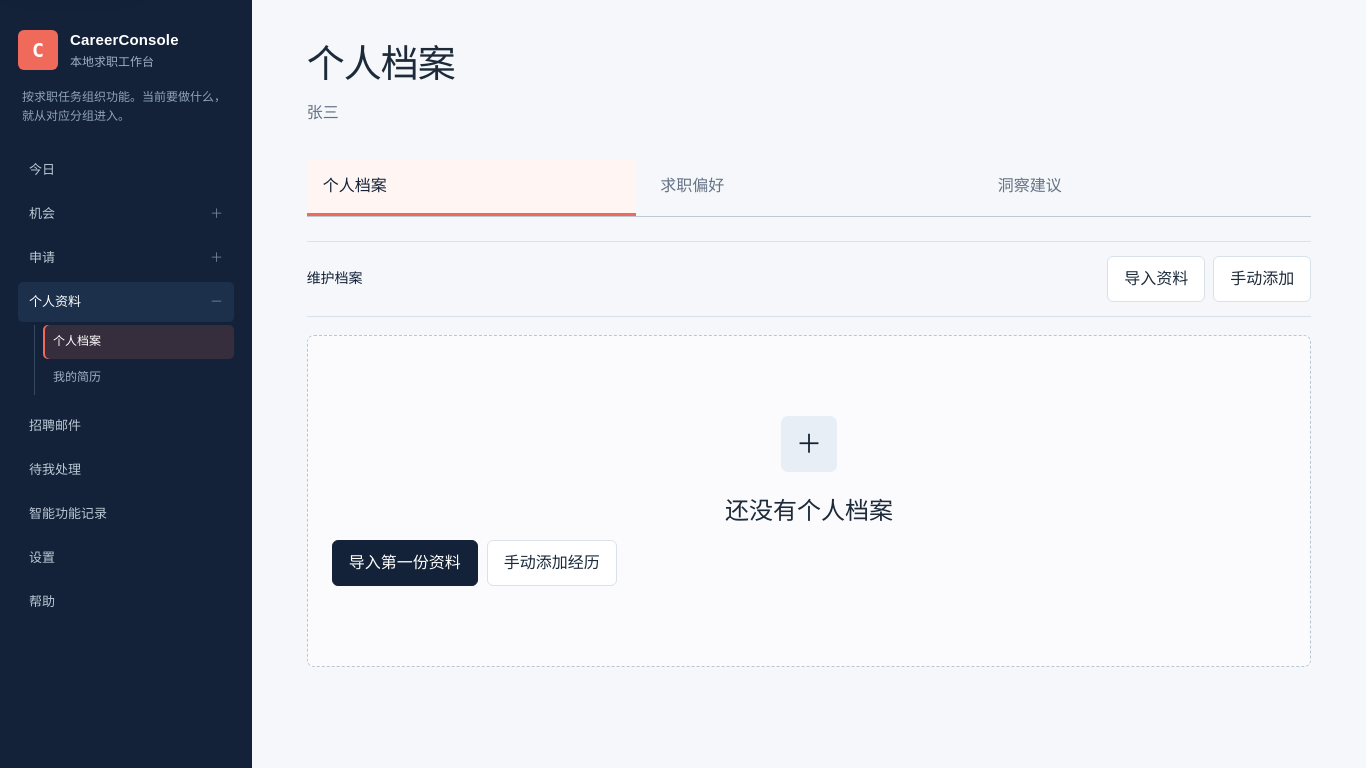
Scenario: Career app shell › shows automatically maintained career insights without manual generation controls
Step 1. Click the button "洞察建议" → click(1030, 185), box [982,160,1311,216]
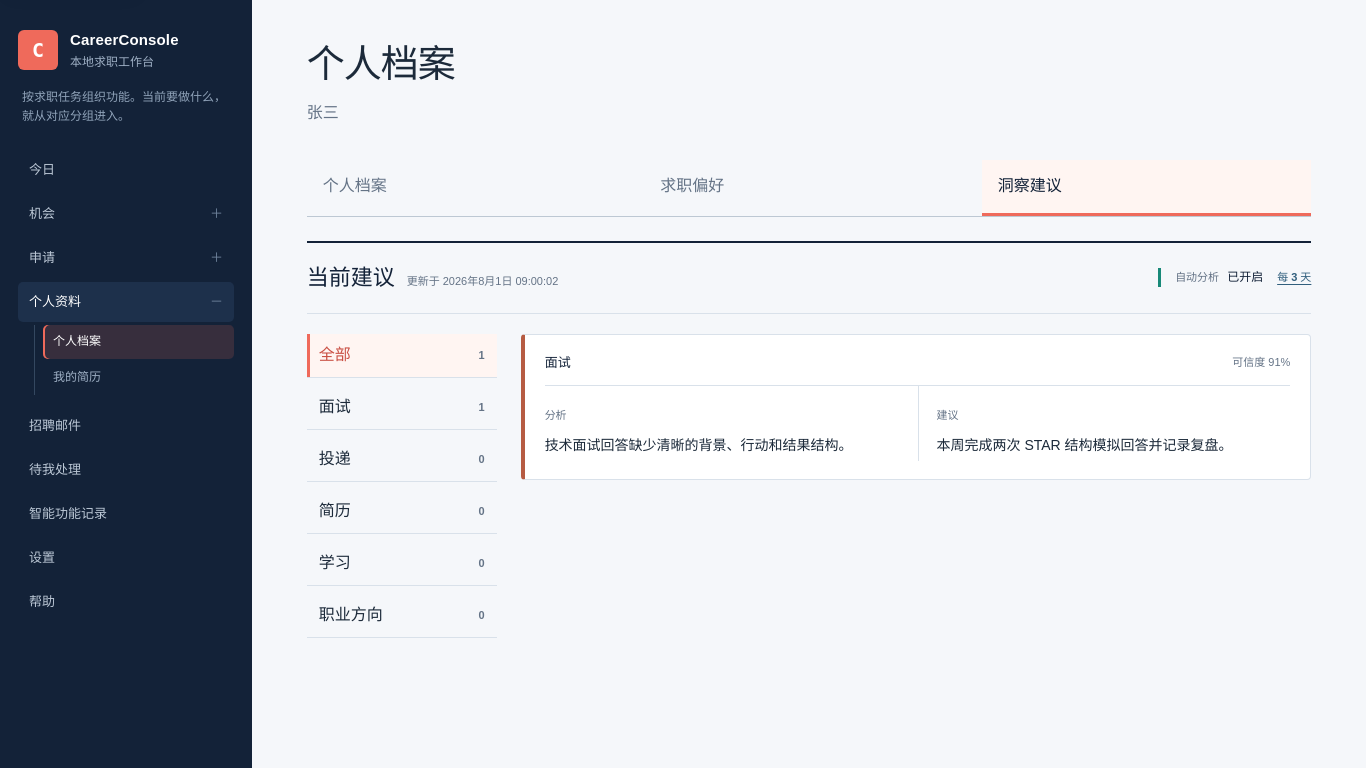
Expected: the heading "当前建议" is shown, [307,261,395,295]
Expected: the text "自动分析" is shown, [1175,269,1219,286]
Expected: the text "已开启" is shown, [1227,268,1263,287]
